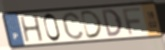0: (43, 13, 62, 43)
C: (60, 11, 86, 41)
D: (79, 9, 104, 40), (100, 8, 124, 39)
F: (121, 6, 142, 36)
H: (19, 14, 46, 44)
